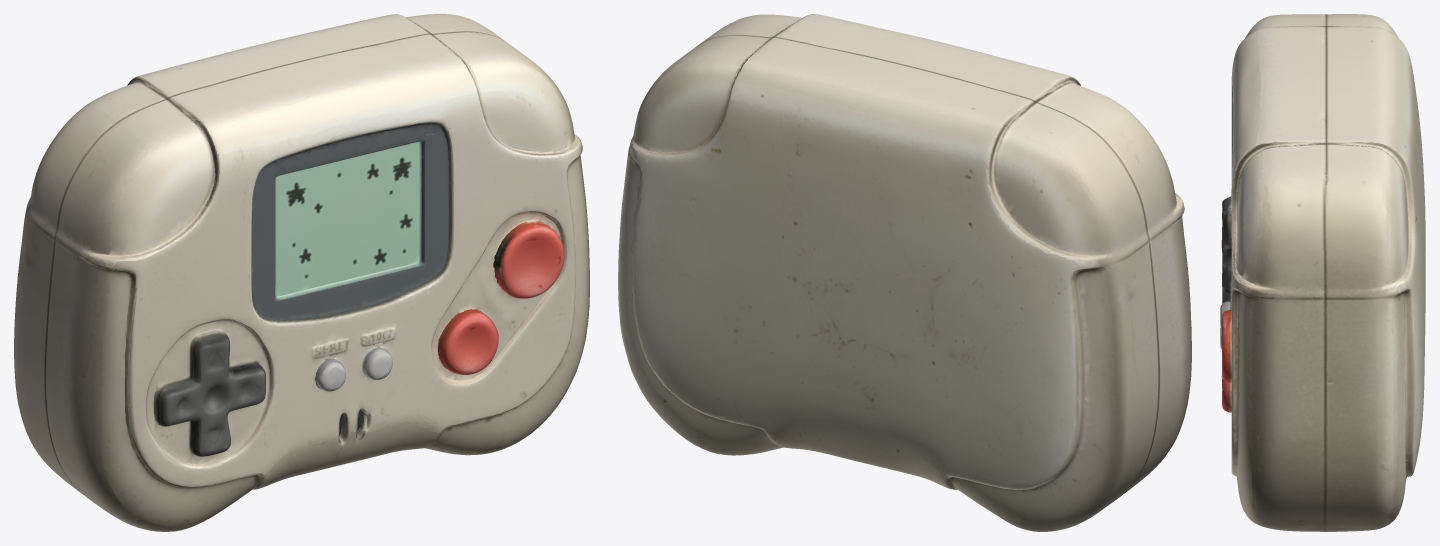
The model's file is game-console.glb.
3 renders of one model, left to right at view 1: azimuth 30°, elevation 25°; view 2: azimuth 150°, elevation 25°; view 3: azimuth 270°, elevation 25°, orthographic. The views are drawn at different scales.
Visible parts, largest first — view 1: geometry_0; view 2: geometry_0; view 3: geometry_0.
Part boxes in pixels (x1,y1,x2,y2): geometry_0: (14, 14, 589, 531); geometry_0: (618, 14, 1191, 531); geometry_0: (1220, 14, 1425, 531).
Bounding box in the file's own units: 0.135 × 0.1025 × 0.0514.
1 material, 1 textured.
